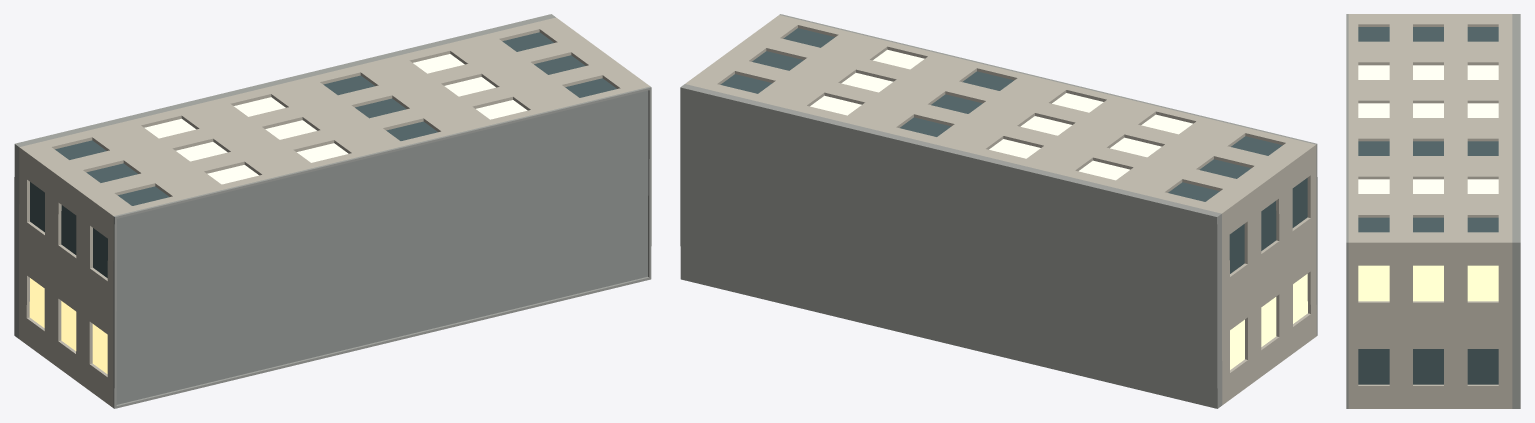
The model's file is residential-mid.glb.
3 renders of one model, left to right at view 1: azimuth 30°, elevation 25°; view 2: azimuth 150°, elevation 25°; view 3: azimuth 270°, elevation 25°, orthographic. The views are drawn at different scales.
Parts seen in each view (by area): view 1: way/478990180; view 2: way/478990180; view 3: way/478990180.
Boxes of the visible parts, x1,y1,x2,y2 form: way/478990180: (14, 14, 651, 408); way/478990180: (680, 14, 1317, 408); way/478990180: (1346, 14, 1520, 408).
Size of the model in its own units: 39.48 by 13.56 by 12.76.
